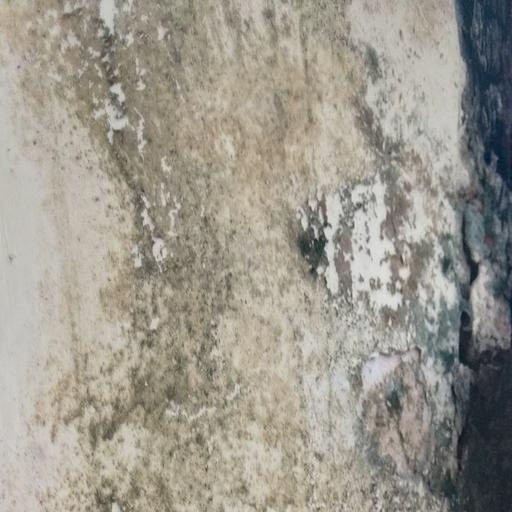algae: (233, 65, 512, 512)
